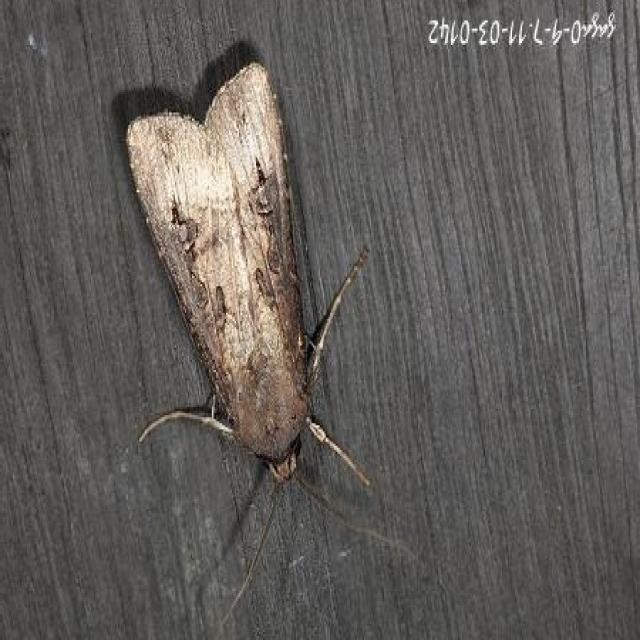black cutworm: (83, 60, 340, 486)
